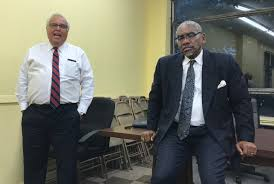F_shirt: (12, 38, 98, 112)
F_tie: (177, 55, 197, 140), (48, 41, 62, 113)
